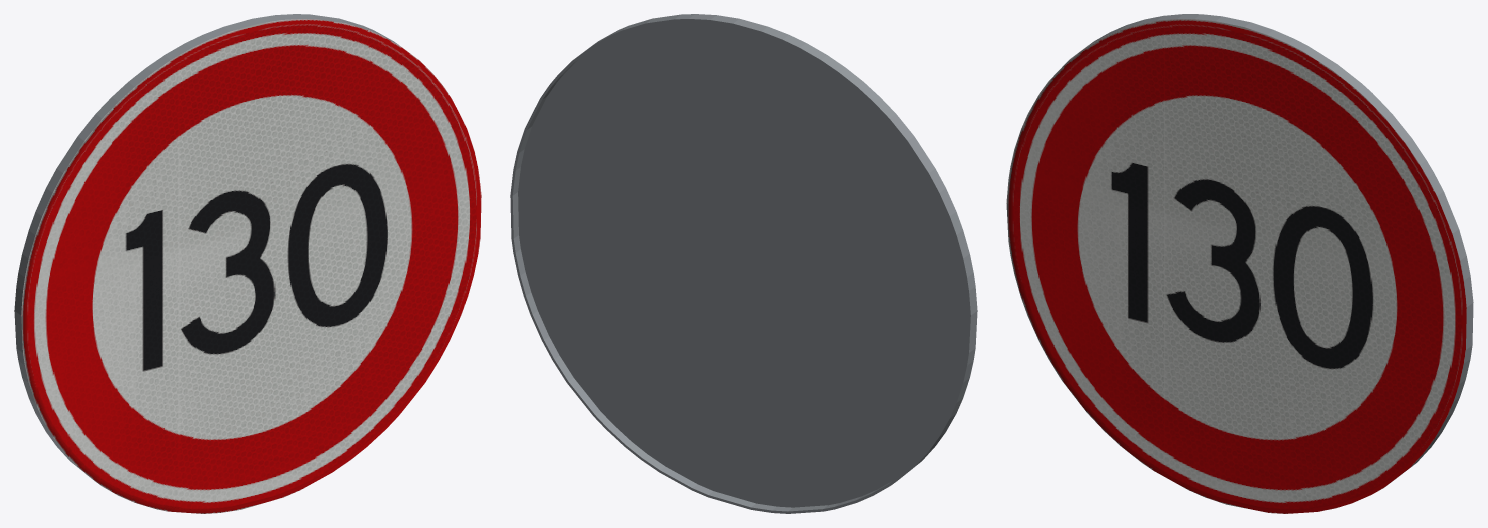
The picture shows the model from 3 angles, left to right: view 1: azimuth 30°, elevation 25°; view 2: azimuth 150°, elevation 25°; view 3: azimuth 330°, elevation 25°; orthographic projection.
Visible parts, largest first — view 1: cat_a031665362df15d6; view 2: cat_a031665362df15d6; view 3: cat_a031665362df15d6.
Boxes of the visible parts, box(x1,y1,x2,y2) form: cat_a031665362df15d6: box(14, 14, 481, 513); cat_a031665362df15d6: box(510, 14, 977, 513); cat_a031665362df15d6: box(1006, 14, 1473, 513).
Size of the model in its own units: 0.6 by 0.015 by 0.6.
2 materials, 1 textured.
